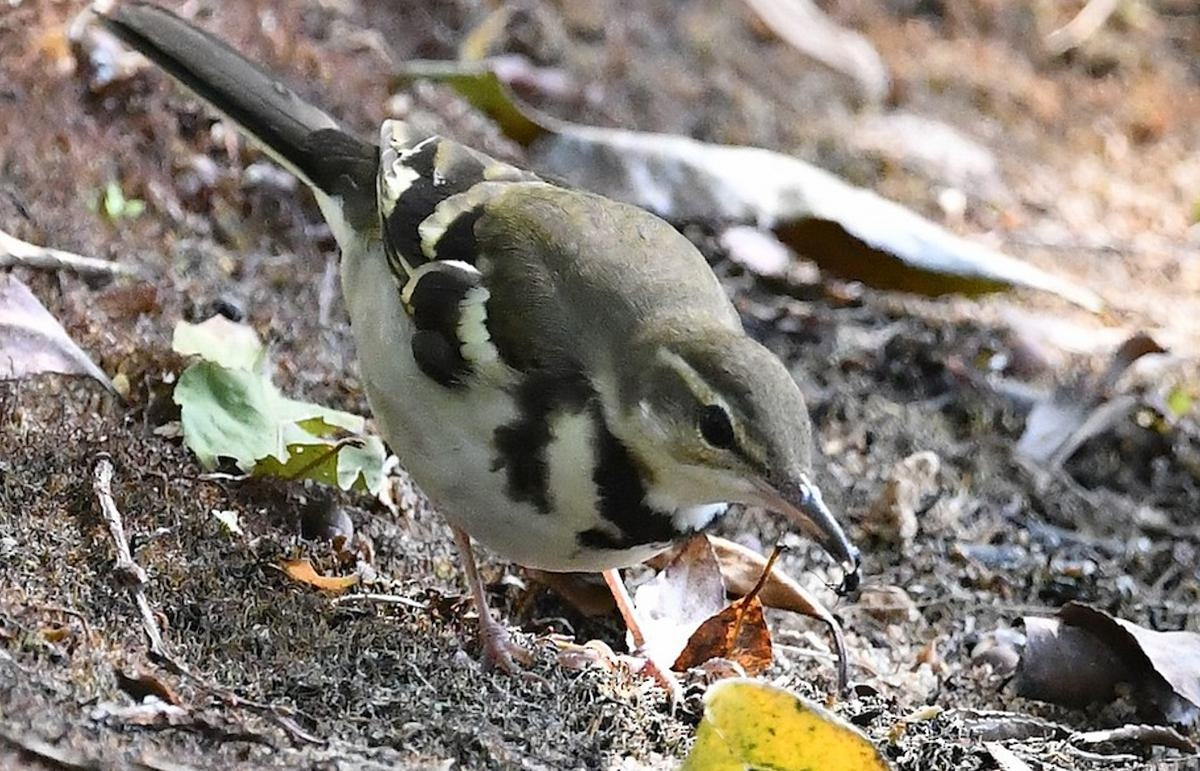wagtail: (147, 21, 926, 650)
